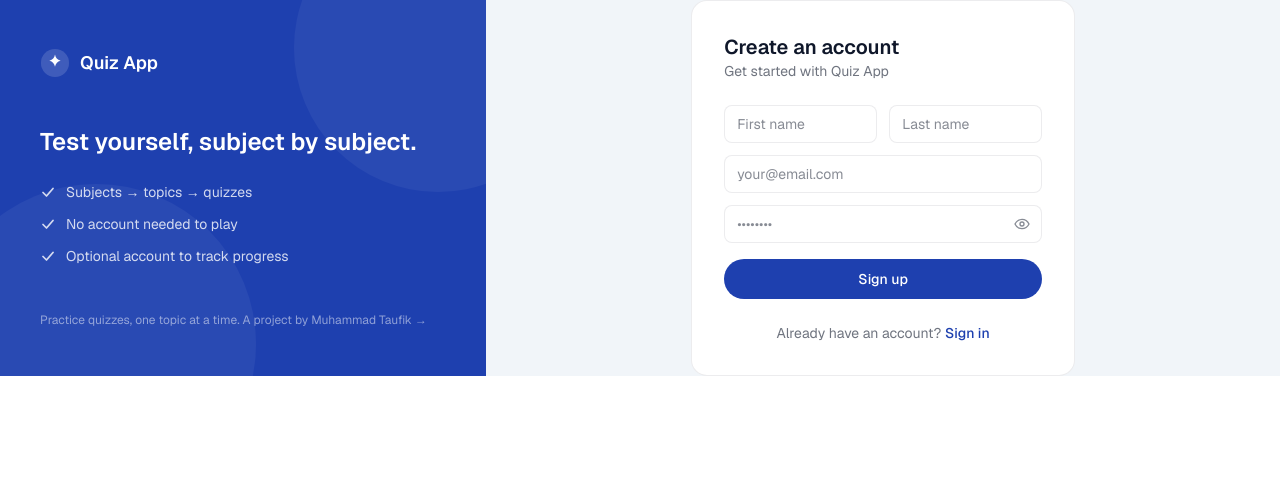
Test: SignUp Form › validates required fields
This screenshot has width=1280, height=493.
// Submit without filling form
Step 1. Click the button "Sign up" → x=883, y=279, box [724,259,1042,299]
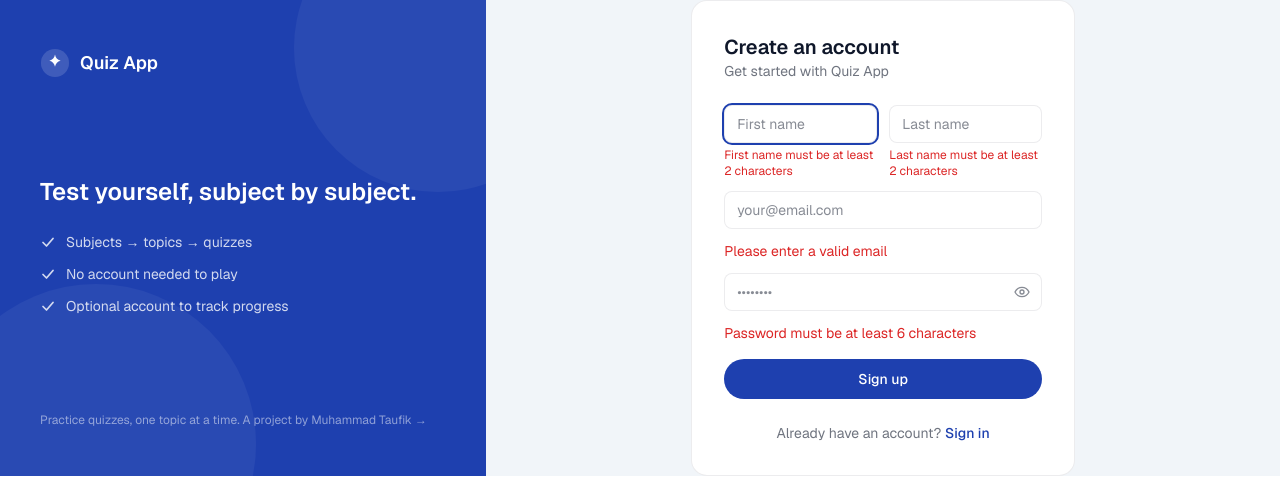
Check: the text "First name must be at least 2 characters" is shown, box [724,147,877,179]
Check: the text "Last name must be at least 2 characters" is shown, box [889,147,1042,179]
Check: the text "Please enter a valid email" is shown, box [724,242,887,260]
